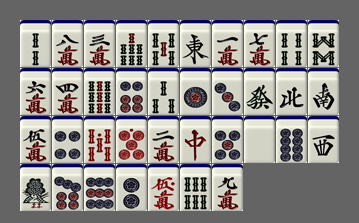0m: (148, 164, 179, 211)
0p: (116, 116, 147, 163)
0s: (84, 116, 115, 163)
1m: (212, 20, 243, 67)
1p: (180, 68, 211, 115)
1s: (20, 164, 51, 211)
1z: (180, 20, 211, 67)
2m: (148, 116, 179, 163)
2p: (116, 164, 147, 211)
2s: (20, 20, 51, 67)
2z: (308, 68, 339, 115)
3m: (84, 20, 115, 67)
3p: (212, 68, 243, 115)
3s: (148, 68, 179, 115)
3z: (308, 116, 339, 163)
4m: (52, 68, 83, 115)
4p: (52, 116, 83, 163)
4s: (276, 20, 307, 67)
4z: (276, 68, 307, 115)
5m: (20, 116, 51, 163)
5p: (212, 116, 243, 163)
5s: (148, 20, 179, 67)
5z: (244, 116, 275, 163)
6m: (20, 68, 51, 115)
6p: (116, 68, 147, 115)
6s: (180, 164, 211, 211)
6z: (244, 68, 275, 115)
7m: (244, 20, 275, 67)
7p: (52, 164, 83, 211)
7s: (116, 20, 147, 67)
7z: (180, 116, 211, 163)
8m: (52, 20, 83, 67)
8p: (276, 116, 307, 163)
8s: (308, 20, 339, 67)
9m: (212, 164, 243, 211)
9p: (84, 164, 115, 211)
9s: (84, 68, 115, 115)
